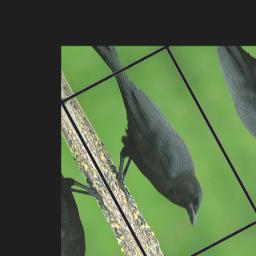Crow: (69, 61, 222, 249)
